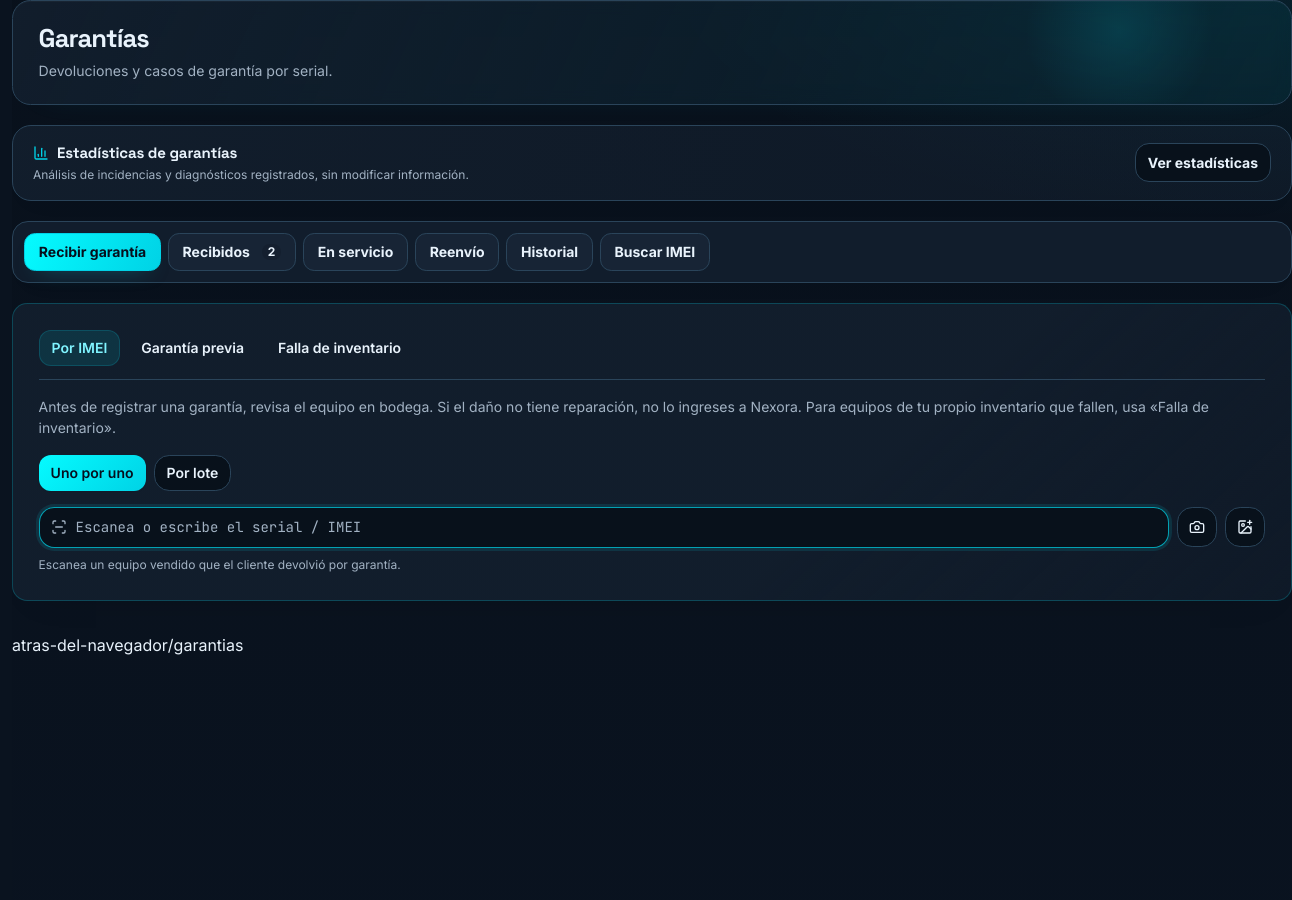
Garantías · Recibidos › al ingresar una garantía mía a un lote, ese lote se despliega solo y los demás siguen cerrados
Click the button "Recibidos 2": [232, 252] box [168,233,296,271]
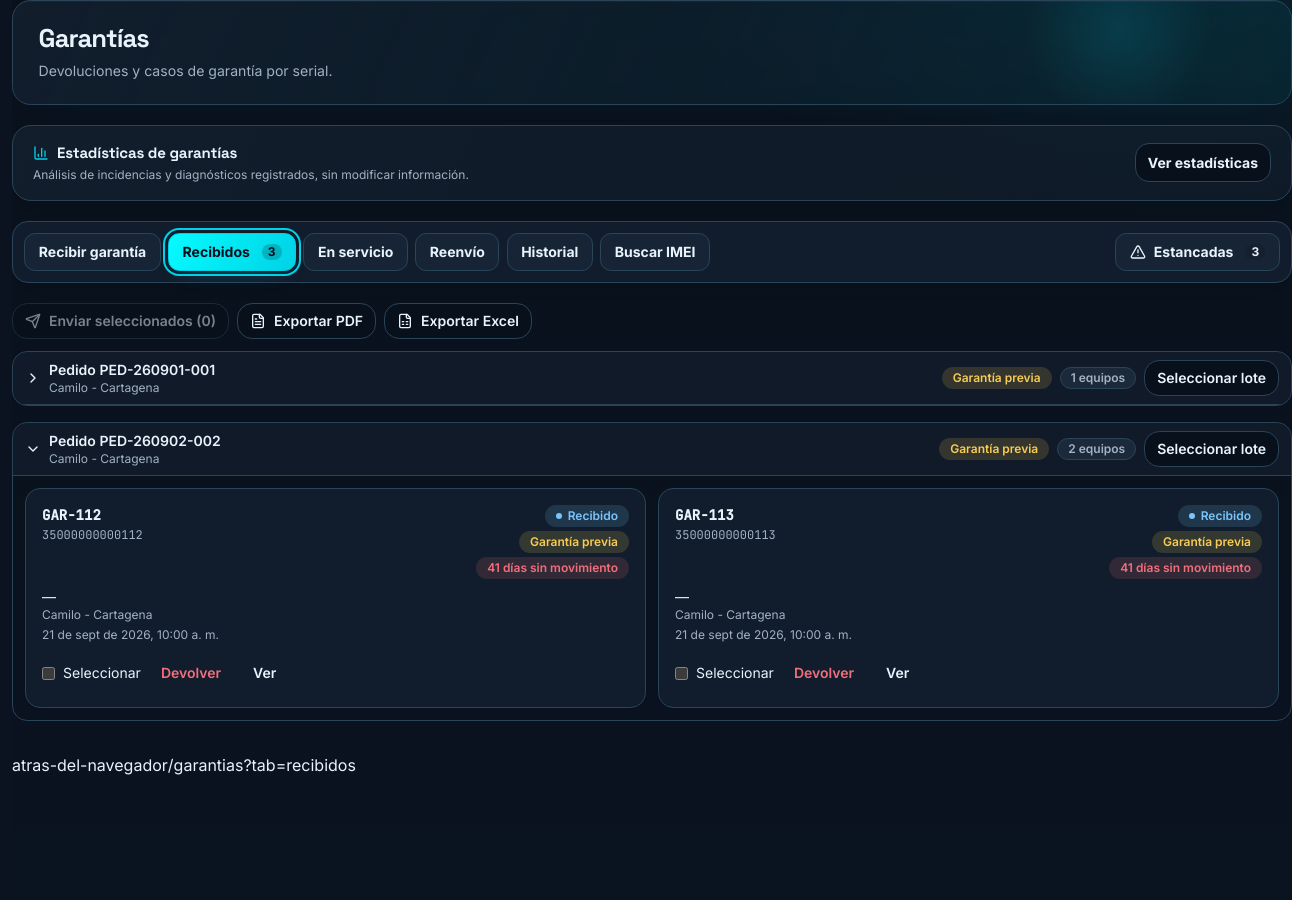
Check: the text "GAR-113" is shown, box [675,506,734,524]
